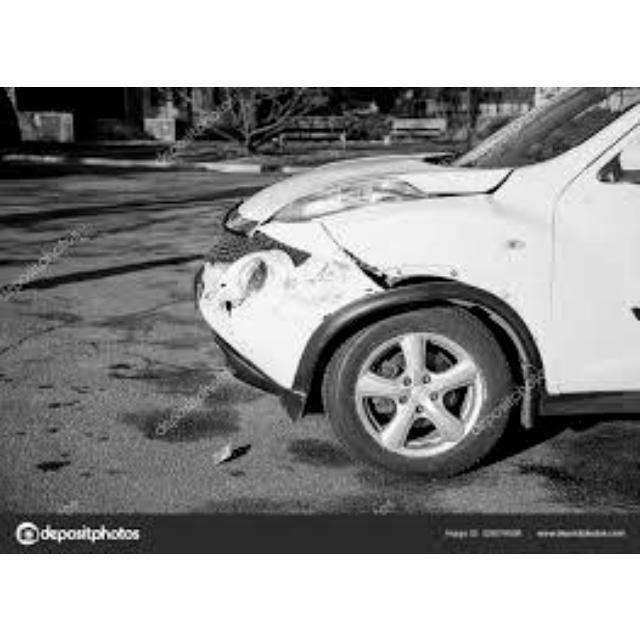fender-dent: (331, 205, 557, 353)
front-bumper-dent: (171, 210, 377, 404)
